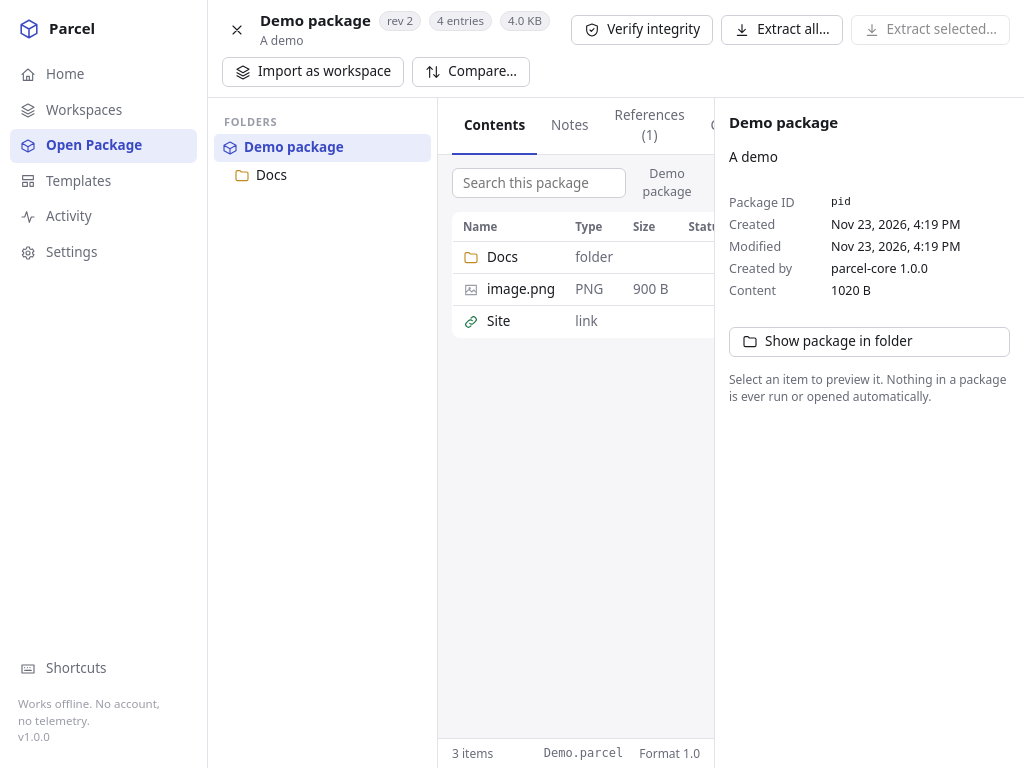
Test: package explorer › reports corrupted entries clearly and marks them in the list
Click the button "Verify integrity".
click(642, 30)  # box [571,15,713,45]
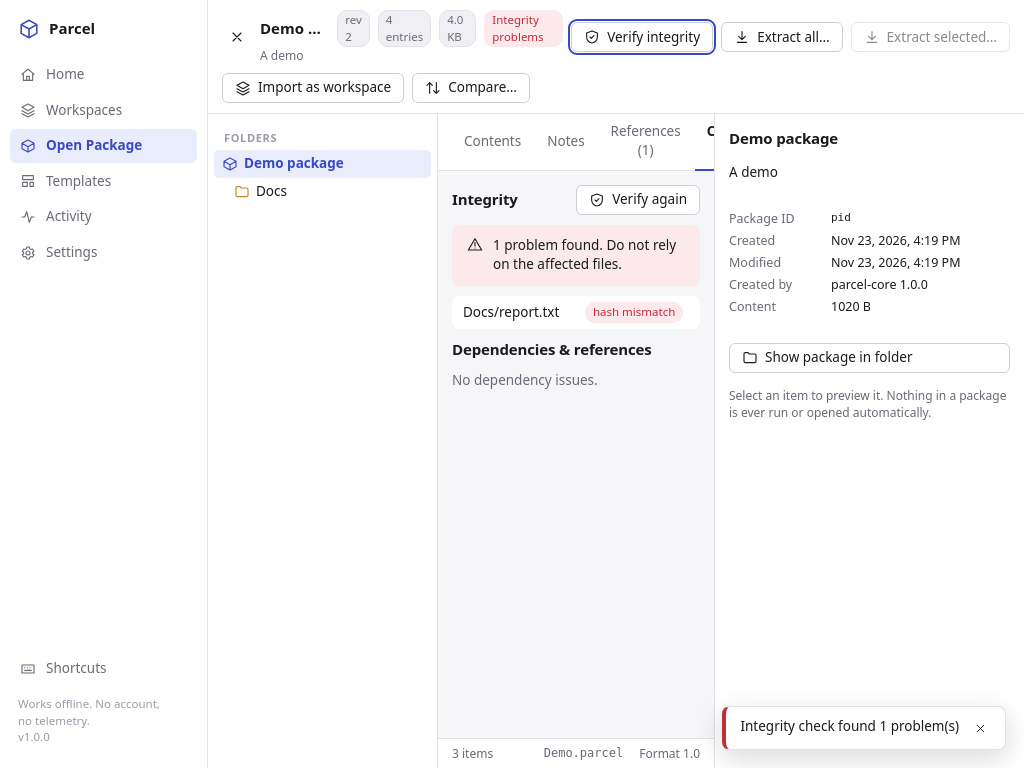
Expected: the text "1 problem found. Do not rely on the affected files." is shown, [493,236,685,275]
Expected: the text "Docs/report.txt" is shown, [452,296,575,328]
Expected: the text "hash mismatch" is shown, [585,302,683,323]
Click the tab "Contents".
click(493, 142)  # box [452,114,533,171]
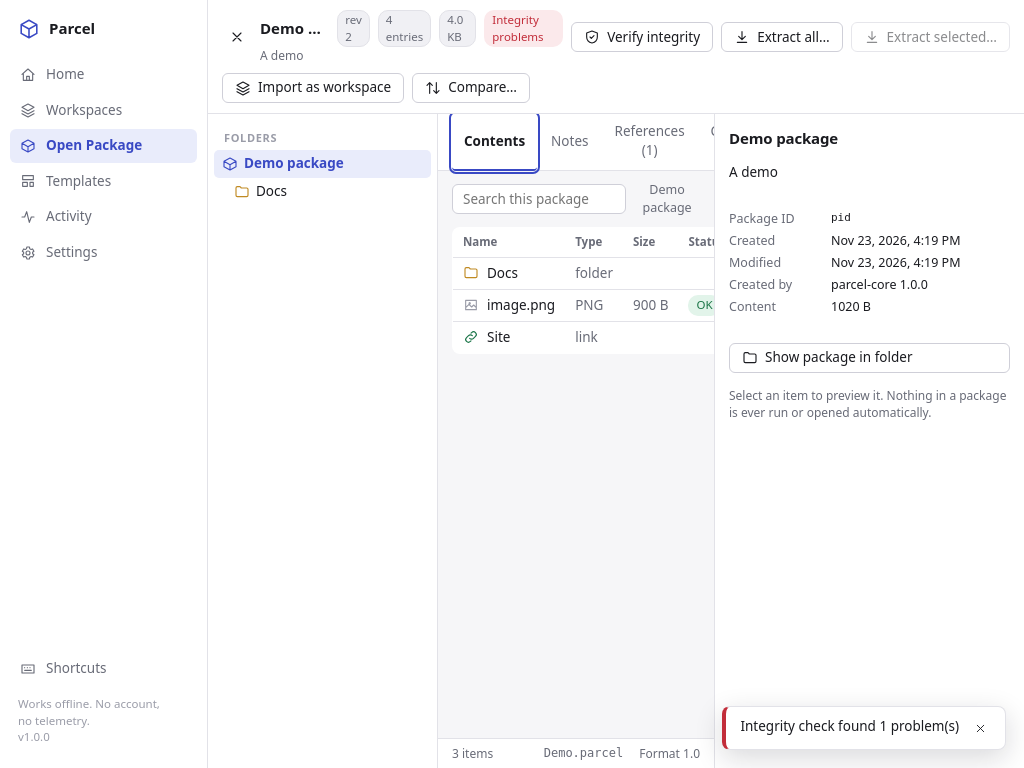
Double-click the text "Docs" below "Name".
double_click(502, 273)  # box [487,264,518,283]
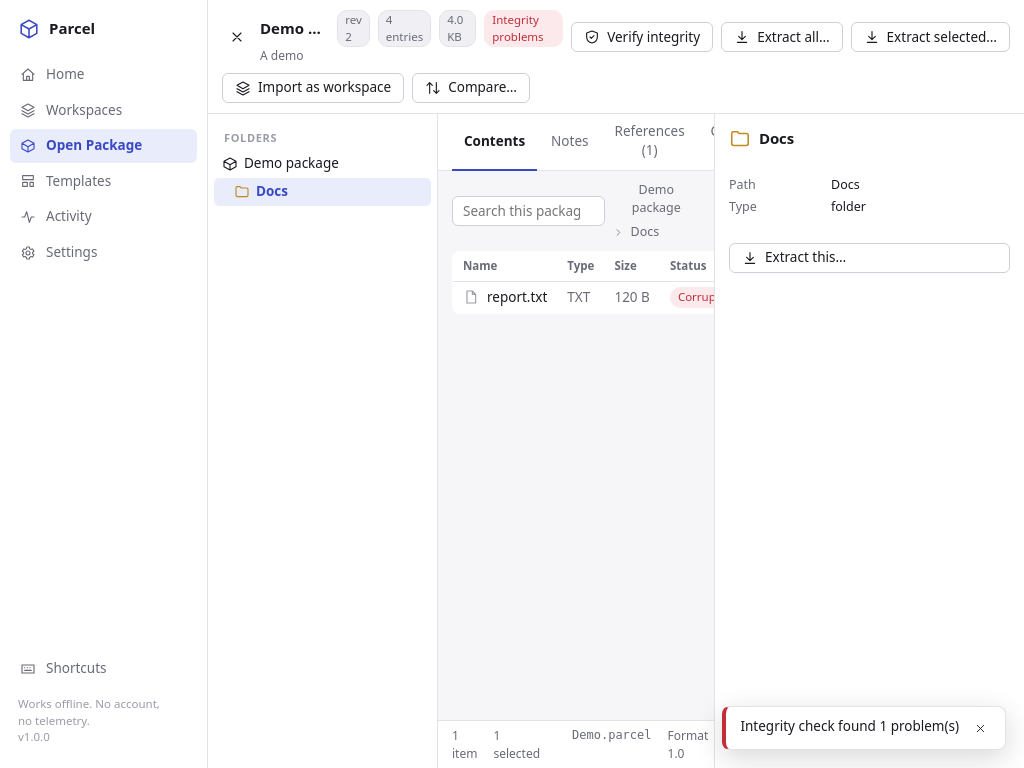
Expected: the text "Corrupted" is shown, [670,287,714,308]
